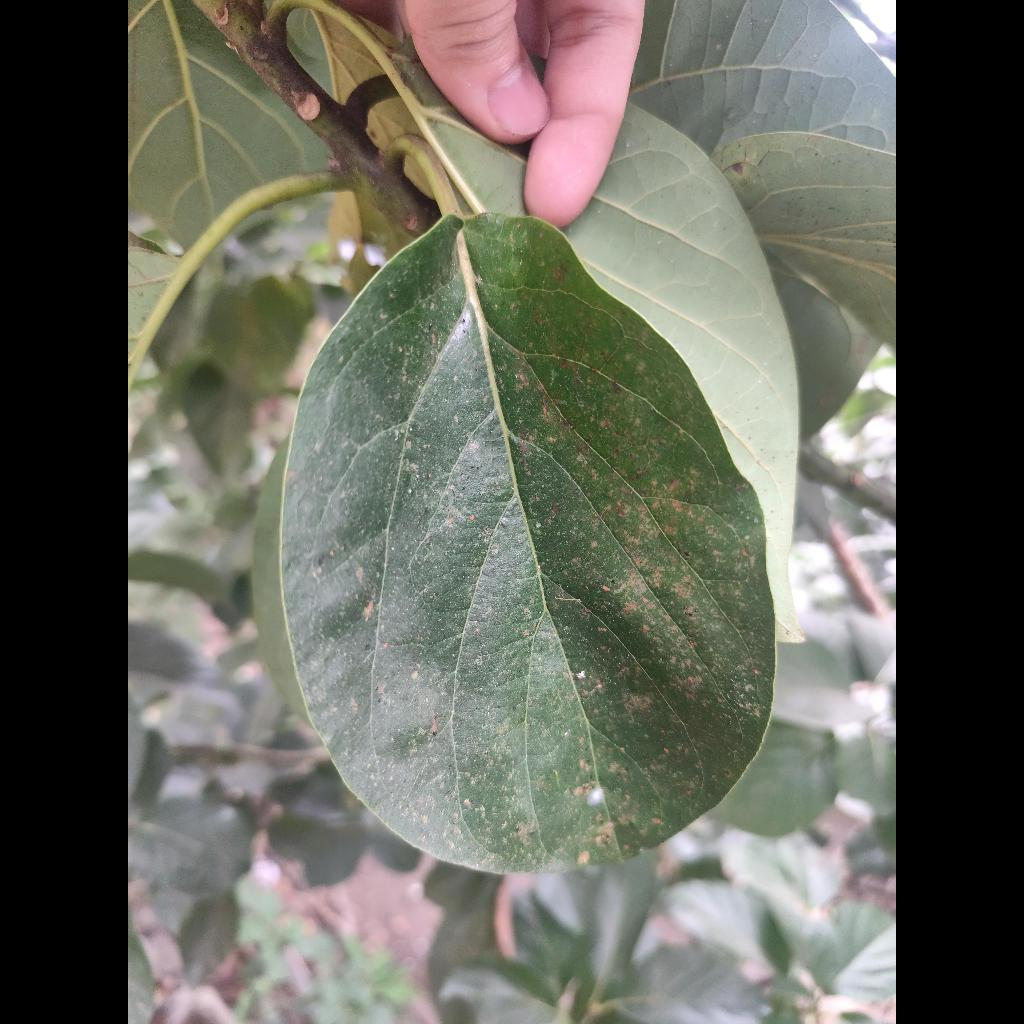antracnosis_hoja: (281, 216, 774, 872)
